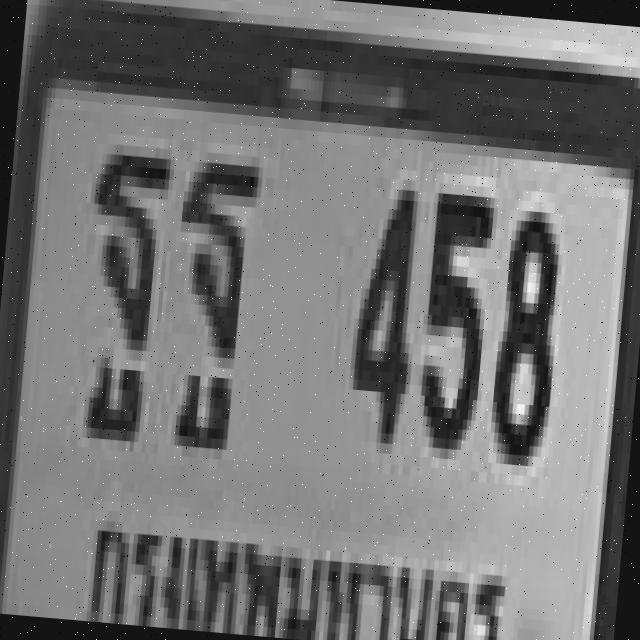25ThorThan: (68, 142, 172, 452), (159, 150, 259, 458)
4: (344, 176, 424, 447)
5: (412, 182, 498, 454)
8: (483, 198, 569, 470)
